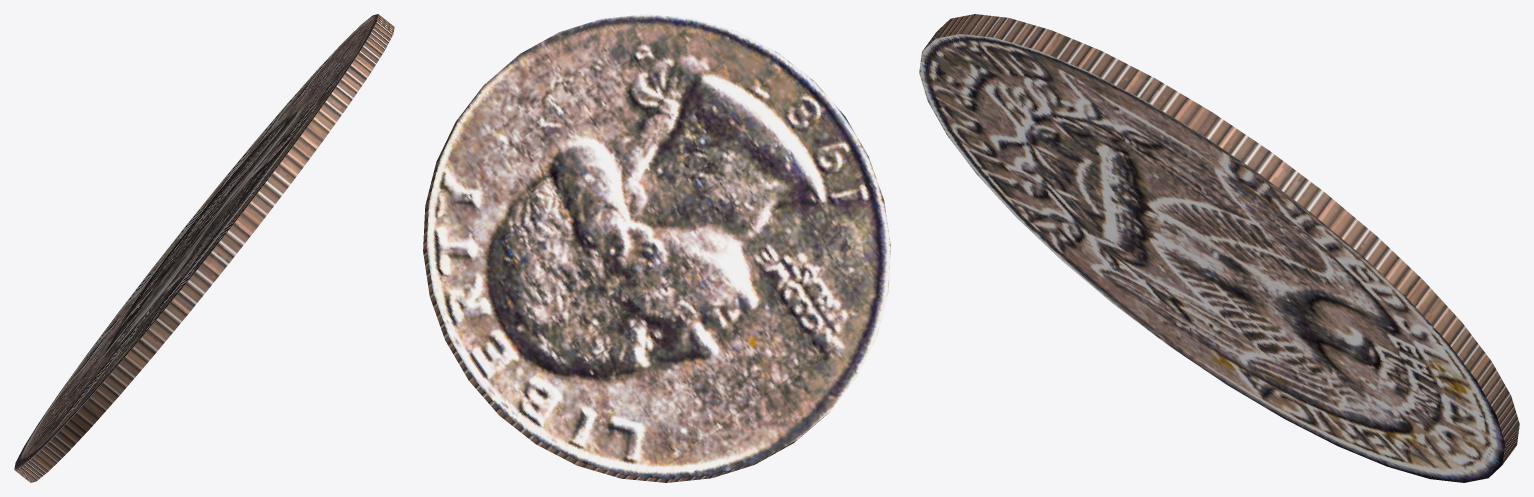
Rendered from CoinPickup.fbx.
3 renders of one model, left to right at view 1: azimuth 30°, elevation 25°; view 2: azimuth 150°, elevation 25°; view 3: azimuth 270°, elevation 25°, orthographic. The views are drawn at different scales.
Parts seen in each view (by area): view 1: Coin_Mesh; view 2: Coin_Mesh; view 3: Coin_Mesh.
Boxes of the visible parts, x1,y1,x2,y2 form: Coin_Mesh: (14,14,394,482); Coin_Mesh: (423,14,890,482); Coin_Mesh: (919,14,1519,482).
Bounding box in the file's own units: 0.1027 × 0.101 × 0.103.
1 material, 1 textured.
